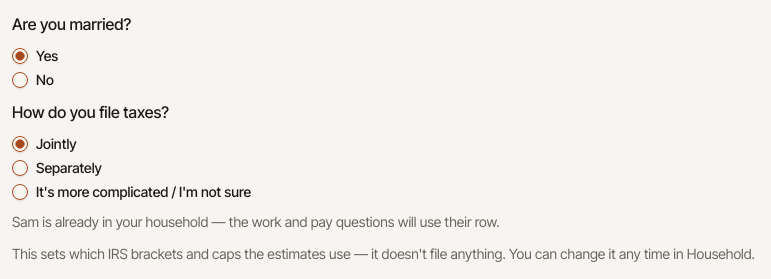
MaritalFilingStep (1b) › married yes→no flip with a person 2 renders the CW-18 note with their name
Expected: the radio button named "Yes" next to "Yes" is checked, [12,48,28,64]
Expected: the text "Sam is already in your household — the work and pay questions will use their row." is shown, [12,213,500,230]
Click the 2nd radio button named "No" at (20, 80), box [12,72,28,88]
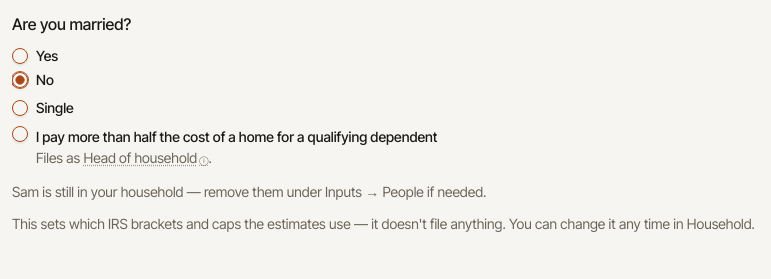
Now the text "Sam is still in your household — remove them under Inputs → People if needed." is shown, box [12,183,486,200]
